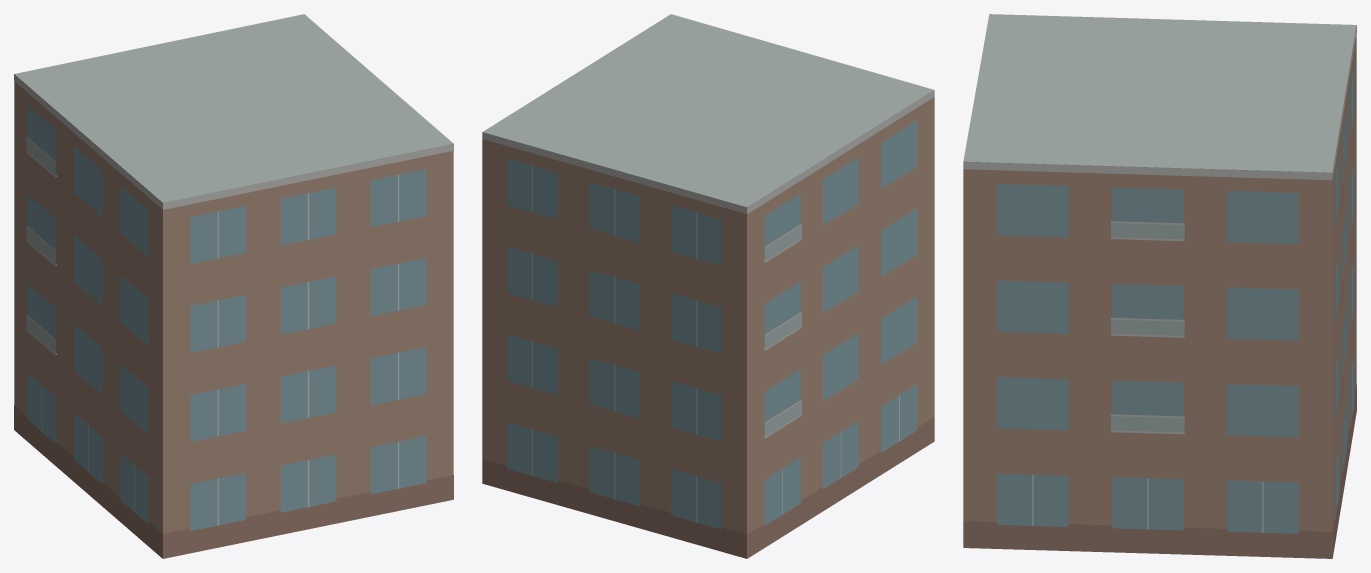
Rendered from survey-upis-32703091.glb.
3 views of the same model, side by side, from view 1: azimuth 30°, elevation 25°; view 2: azimuth 150°, elevation 25°; view 3: azimuth 270°, elevation 25° (orthographic). The views are drawn at different scales.
Visible parts, largest first — view 1: survey-upis-32703091.tmp; view 2: survey-upis-32703091.tmp; view 3: survey-upis-32703091.tmp.
Part boxes in pixels (x1,y1,x2,y2): survey-upis-32703091.tmp: [14, 14, 453, 558]; survey-upis-32703091.tmp: [482, 14, 934, 558]; survey-upis-32703091.tmp: [963, 14, 1356, 558].
Size of the model in its own units: 10.84 by 12.3 by 11.37.
